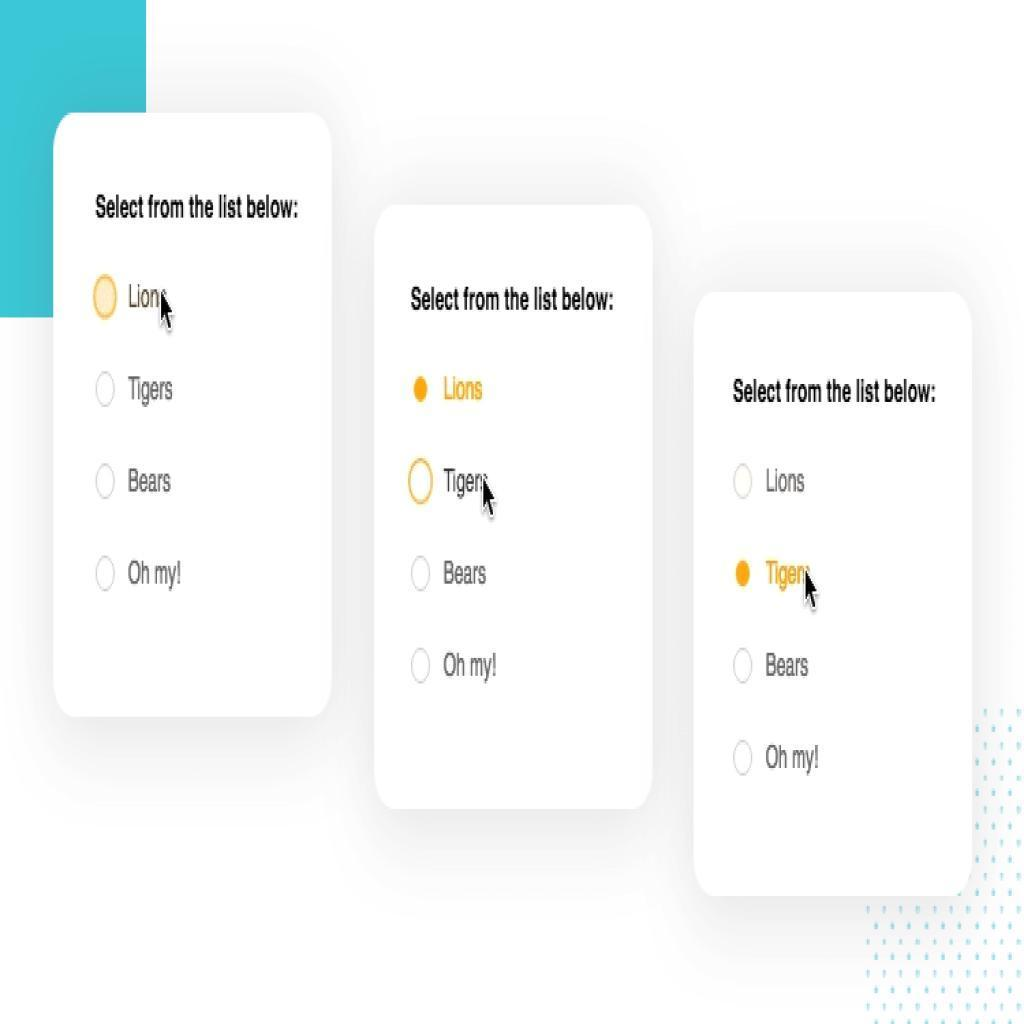label: (96, 184, 302, 232), (407, 280, 625, 321), (731, 376, 943, 411), (759, 735, 825, 777), (123, 371, 183, 414), (442, 646, 501, 686), (124, 556, 190, 589), (130, 279, 173, 328), (760, 560, 820, 595), (130, 463, 180, 500), (443, 550, 487, 592), (445, 467, 497, 502), (763, 462, 812, 499), (764, 650, 812, 681), (445, 374, 487, 407)
radio: (408, 459, 434, 505), (94, 275, 118, 322), (409, 369, 429, 413), (96, 369, 117, 409), (411, 555, 432, 591), (411, 649, 432, 685), (733, 465, 754, 501), (96, 556, 116, 592), (734, 741, 754, 777), (97, 464, 116, 501), (734, 649, 754, 684), (735, 561, 752, 587)
